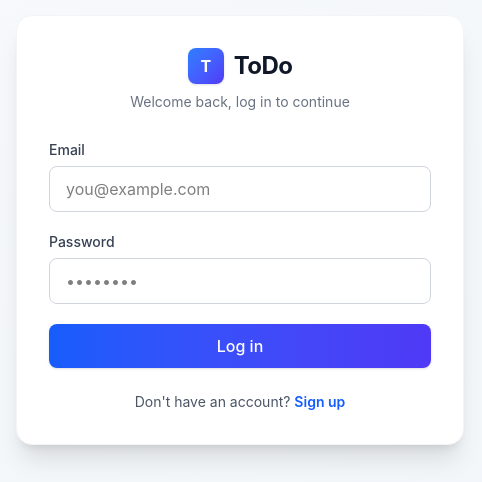
LoginPage › disables form while loading
This screenshot has width=482, height=482.
Type "test@example.com" into the field labelled "Email" at [240, 189], box [49, 166, 431, 212]
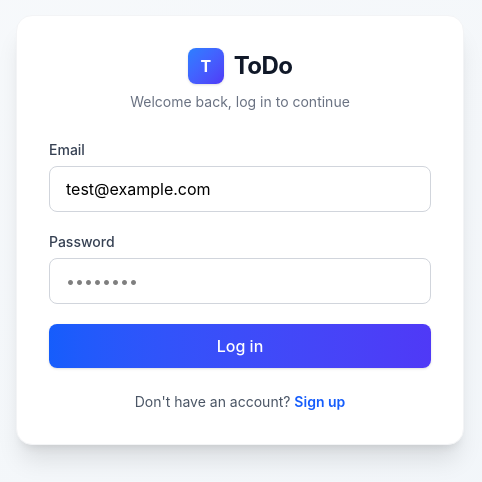
Type "password" into the password field labelled "Password" at [240, 281], box [49, 258, 431, 304]
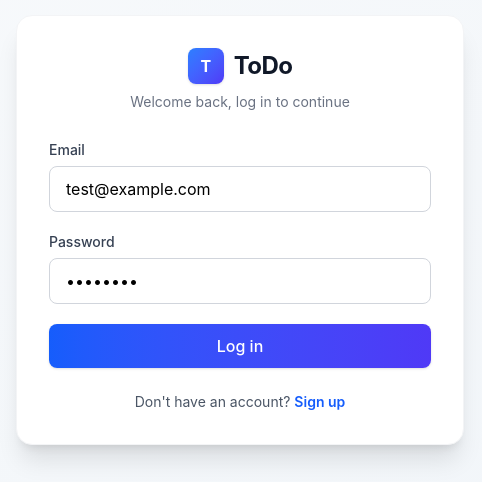
Click the button "Log in" at [240, 346], box [49, 324, 431, 368]
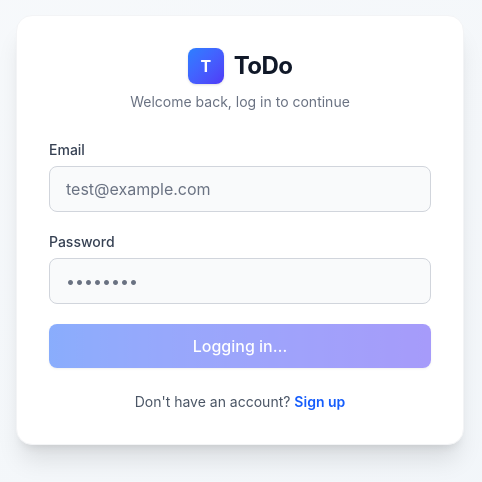
Now the field labelled "Email" is disabled, box [49, 166, 431, 212]
Now the password field labelled "Password" is disabled, box [49, 258, 431, 304]
Now the button named "log in" is disabled, box [49, 324, 431, 368]
